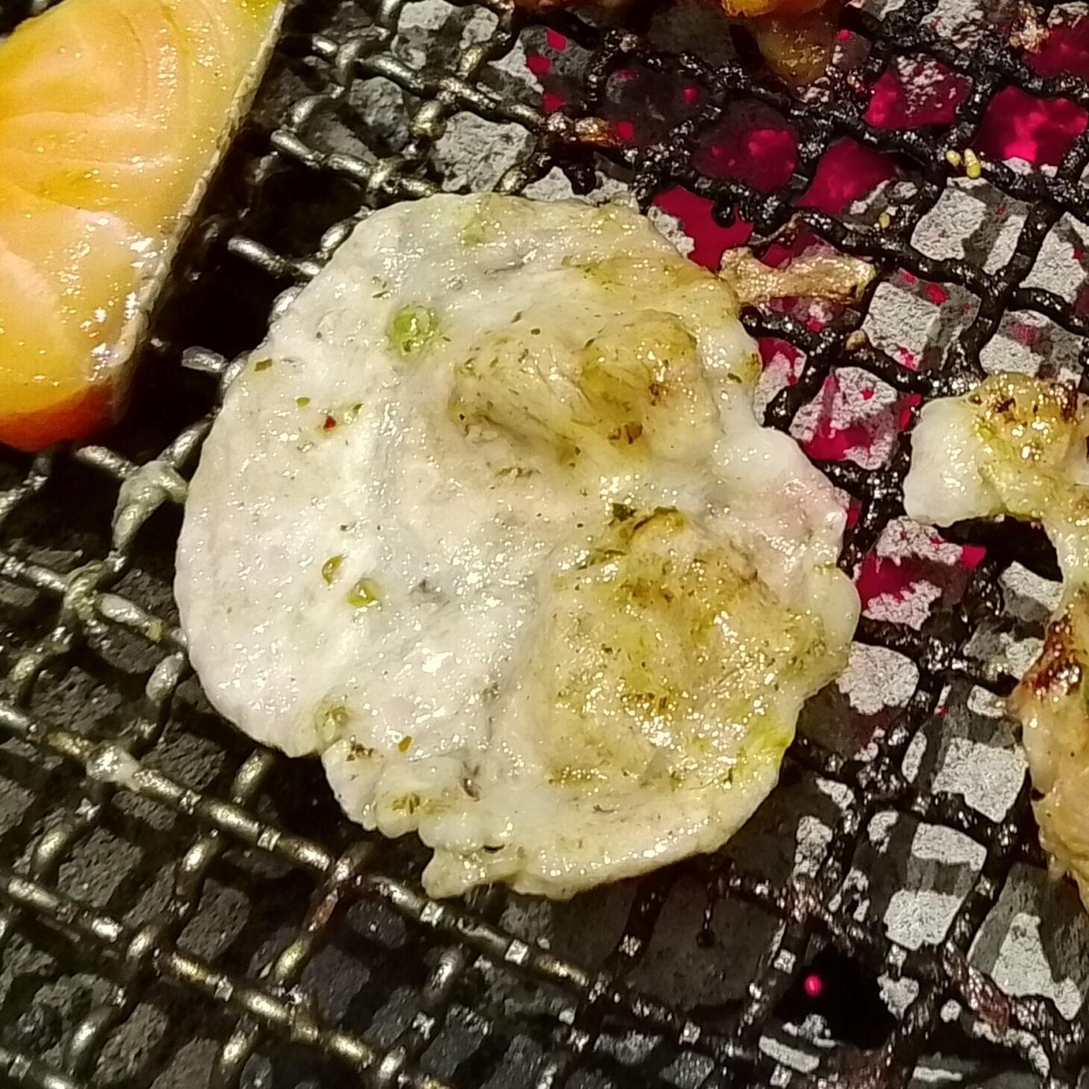Undercooked: (0, 0, 288, 458)
Well-Cooked: (165, 187, 861, 907)
